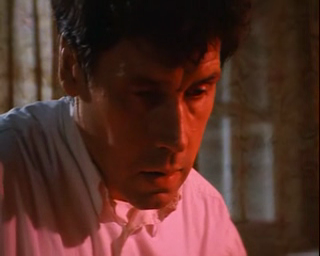cu: (1, 1, 320, 256)
face: (105, 37, 222, 210)
person: (1, 1, 249, 256)
